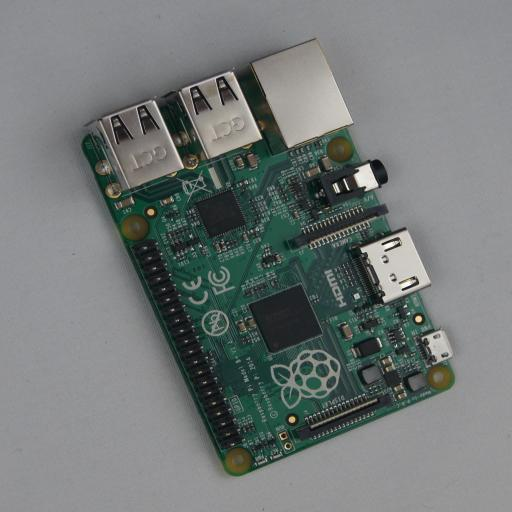Raspberry Pi 1 B-: (73, 38, 455, 477)
